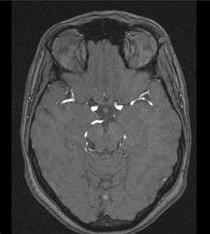Normal_Brain: (2, 2, 210, 234)
